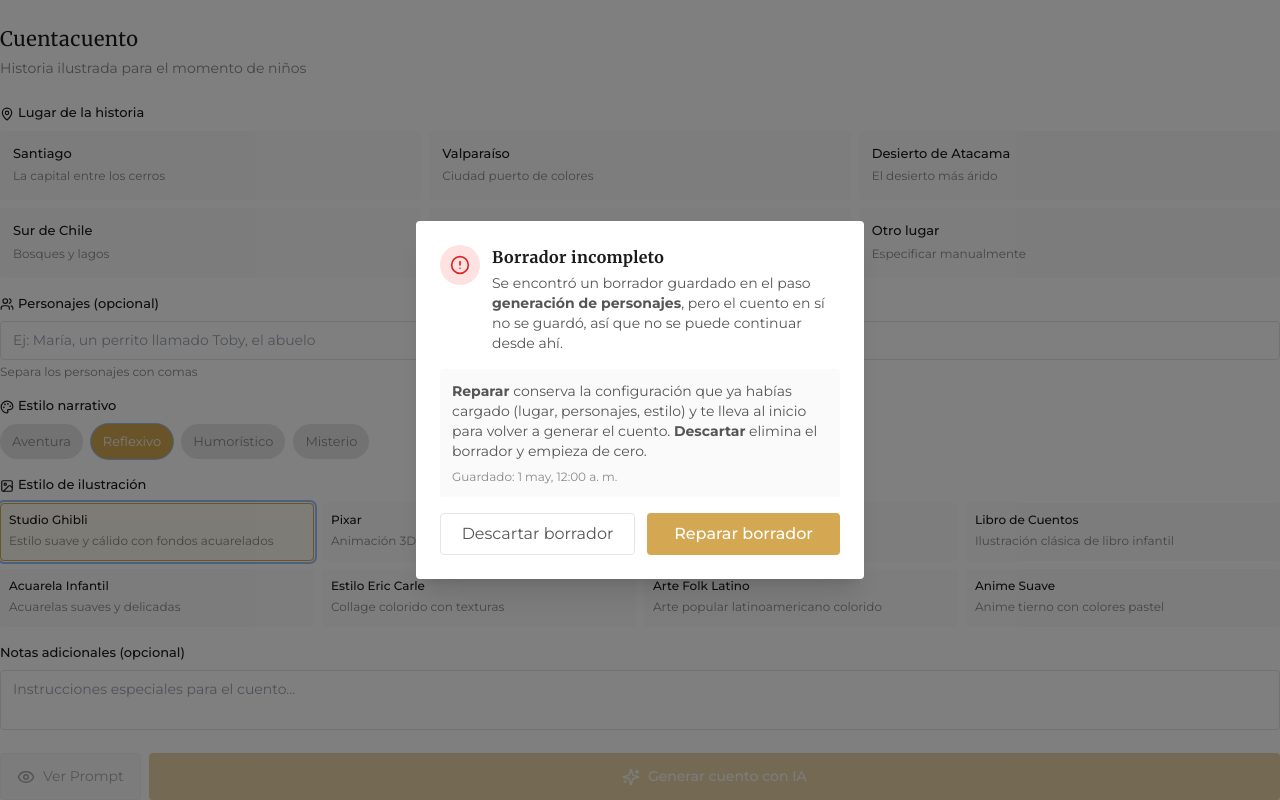
Scenario: T-A6.1 — borrador roto: prompt de reparación visible › reparar aterriza en config CONSERVANDO la configuración persistida
The width and height of the screenshot is (1280, 800).
Click the button "Reparar borrador" at {"x": 744, "y": 534}, box [647,513,840,555]
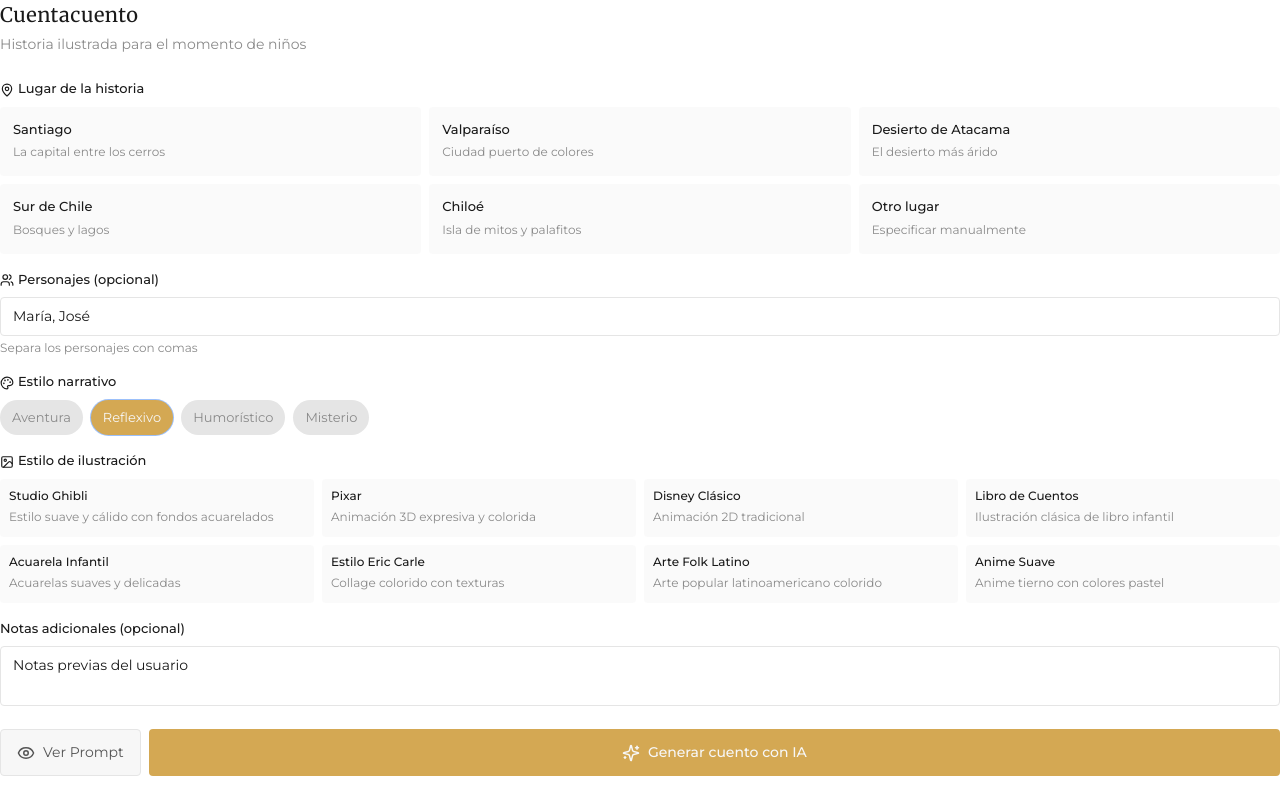
Now the heading "Borrador incompleto" is gone
Now the field showing "María, José" is shown, box [0,297,1279,336]
Now the text box showing "Notas previas del usuario" is shown, box [0,646,1279,706]
